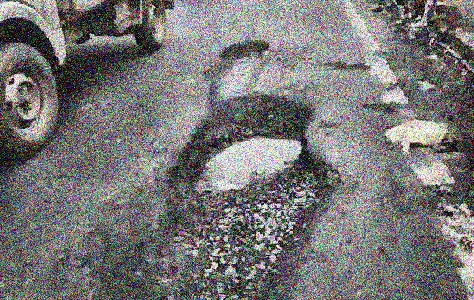pothole: (167, 92, 338, 294), (220, 37, 270, 59)
